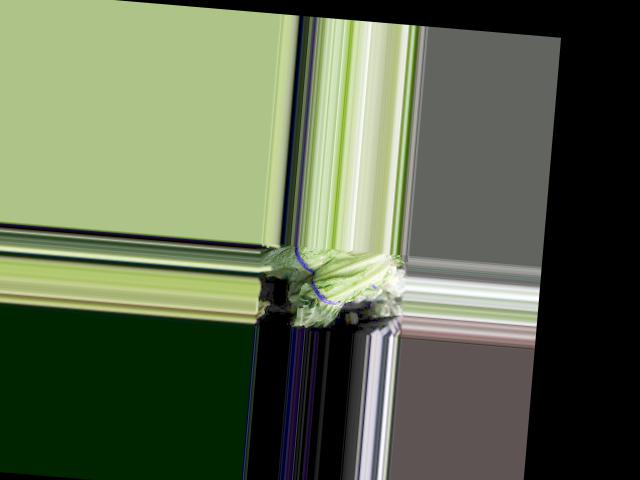lettuce: (288, 245, 386, 327)
